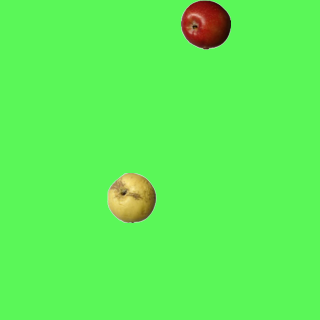Apple Braeburn: (180, 0, 230, 49)
Apple Golden 1: (106, 172, 156, 222)
